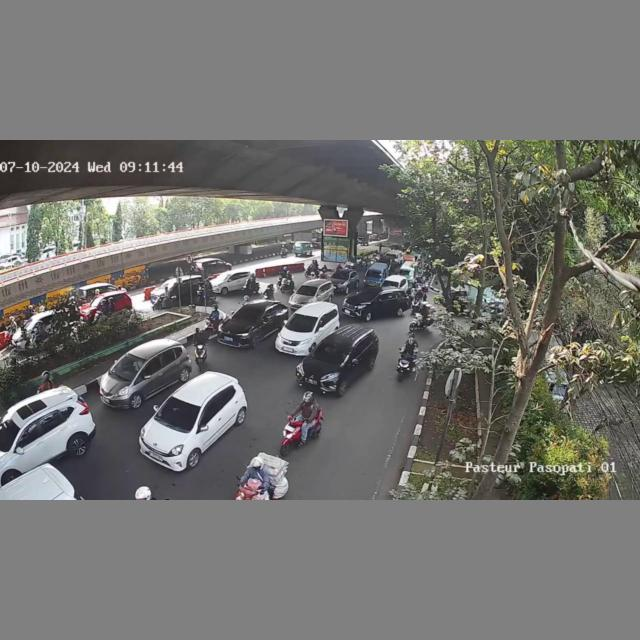windshield: (149, 394, 203, 433), (107, 351, 148, 383), (312, 339, 352, 366), (284, 311, 318, 337), (227, 305, 266, 324), (293, 283, 319, 298)
